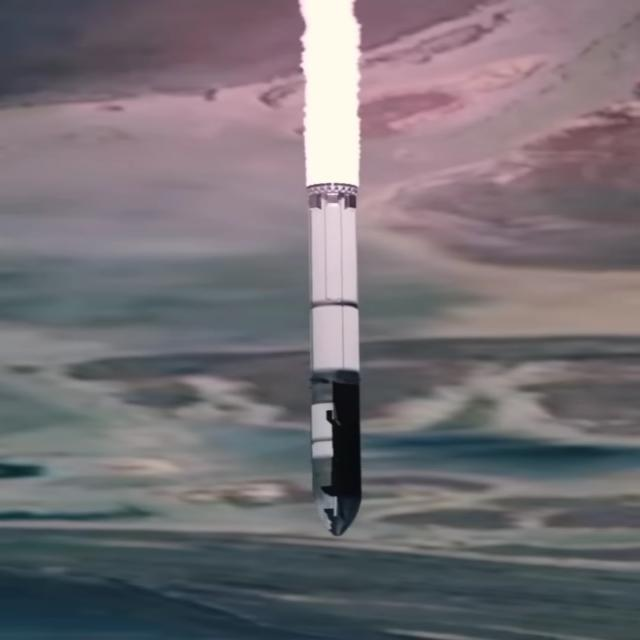missile: (302, 183, 366, 535)
